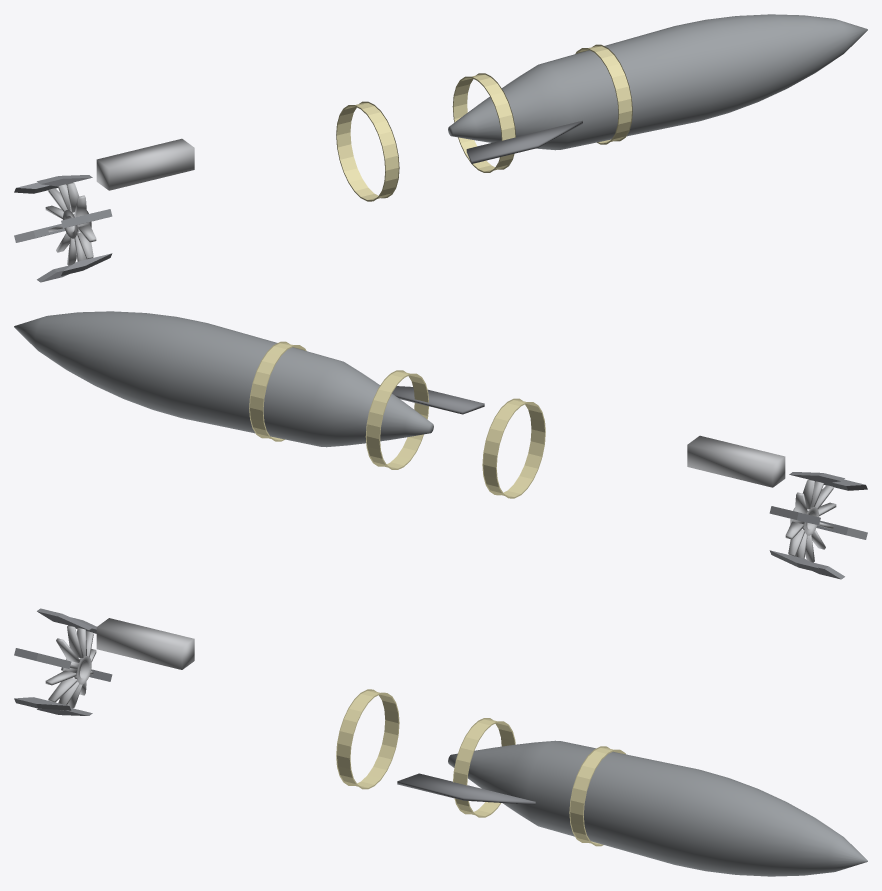
File: FR_TORP_L5_Mod3_LOD1.fbx
3 views of the same model, one above another, from view 1: azimuth 30°, elevation 25°; view 2: azimuth 150°, elevation 25°; view 3: azimuth 330°, elevation 25° (orthographic).
Visible parts, largest first — view 1: WPN_FR_TORP_L5_Mod3_LOD1_Body, WPN_FR_TORP_L5_Mod3_LOD1_Marking, WPN_FR_TORP_L5_Mod3_LOD1_Detail, WPN_FR_TORP_L5_Mod3_LOD1_Propulsor, WPN_FR_TORP_L5_Mod3_LOD1_Fins; view 2: WPN_FR_TORP_L5_Mod3_LOD1_Body, WPN_FR_TORP_L5_Mod3_LOD1_Marking, WPN_FR_TORP_L5_Mod3_LOD1_Detail, WPN_FR_TORP_L5_Mod3_LOD1_Propulsor, WPN_FR_TORP_L5_Mod3_LOD1_Fins; view 3: WPN_FR_TORP_L5_Mod3_LOD1_Body, WPN_FR_TORP_L5_Mod3_LOD1_Marking, WPN_FR_TORP_L5_Mod3_LOD1_Detail, WPN_FR_TORP_L5_Mod3_LOD1_Propulsor, WPN_FR_TORP_L5_Mod3_LOD1_Fins.
Part boxes in pixels (bbox=[...]): WPN_FR_TORP_L5_Mod3_LOD1_Body: bbox=[448, 14, 867, 150]; WPN_FR_TORP_L5_Mod3_LOD1_Marking: bbox=[336, 44, 632, 201]; WPN_FR_TORP_L5_Mod3_LOD1_Detail: bbox=[96, 120, 582, 190]; WPN_FR_TORP_L5_Mod3_LOD1_Propulsor: bbox=[45, 182, 96, 265]; WPN_FR_TORP_L5_Mod3_LOD1_Fins: bbox=[14, 175, 112, 282]; WPN_FR_TORP_L5_Mod3_LOD1_Body: bbox=[14, 311, 433, 447]; WPN_FR_TORP_L5_Mod3_LOD1_Marking: bbox=[249, 341, 545, 498]; WPN_FR_TORP_L5_Mod3_LOD1_Detail: bbox=[392, 386, 785, 487]; WPN_FR_TORP_L5_Mod3_LOD1_Propulsor: bbox=[785, 479, 836, 562]; WPN_FR_TORP_L5_Mod3_LOD1_Fins: bbox=[769, 472, 867, 579]; WPN_FR_TORP_L5_Mod3_LOD1_Body: bbox=[448, 740, 867, 876]; WPN_FR_TORP_L5_Mod3_LOD1_Marking: bbox=[336, 689, 625, 846]; WPN_FR_TORP_L5_Mod3_LOD1_Detail: bbox=[96, 618, 535, 804]; WPN_FR_TORP_L5_Mod3_LOD1_Propulsor: bbox=[45, 625, 96, 710]; WPN_FR_TORP_L5_Mod3_LOD1_Fins: bbox=[14, 608, 112, 715].
Size of the model in its own units: 5.18 by 0.6716 by 0.6051.
